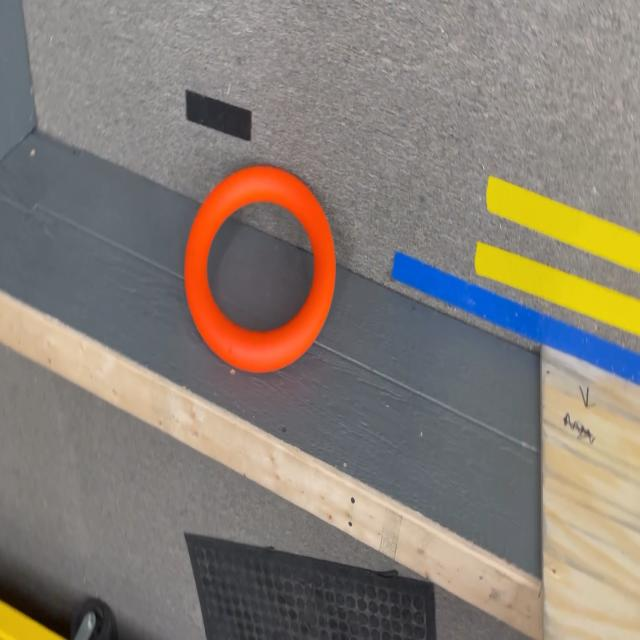note: (184, 166, 336, 374)
